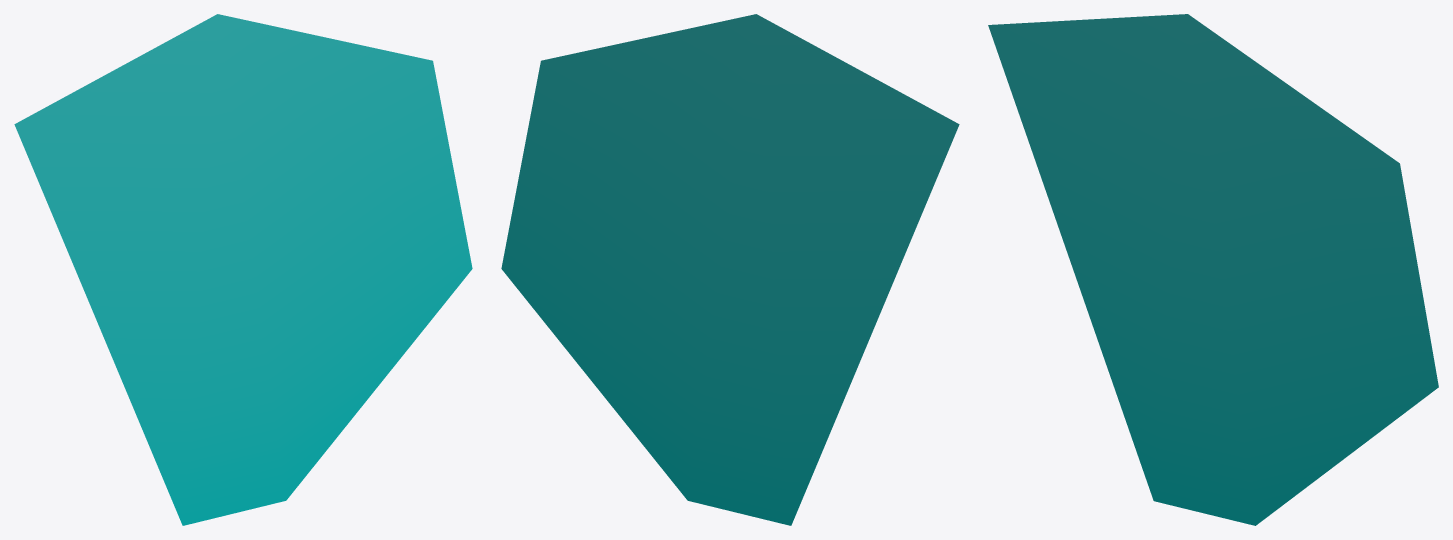
The model's file is Sage_ve3gbfoja_Mid_ve3gbfoja_VarG_LOD3.fbx.
The picture shows the model from 3 angles, left to right: view 1: azimuth 30°, elevation 25°; view 2: azimuth 150°, elevation 25°; view 3: azimuth 330°, elevation 25°; orthographic projection.
Visible parts, largest first — view 1: _jco8_VarG_LOD5; view 2: _jco8_VarG_LOD5; view 3: _jco8_VarG_LOD5.
Boxes of the visible parts, x1,y1,x2,y2 form: _jco8_VarG_LOD5: (14,14,472,525); _jco8_VarG_LOD5: (501,14,959,525); _jco8_VarG_LOD5: (988,14,1438,525).
Bounding box in the file's own units: 32.54 × 34.17 × 0.
